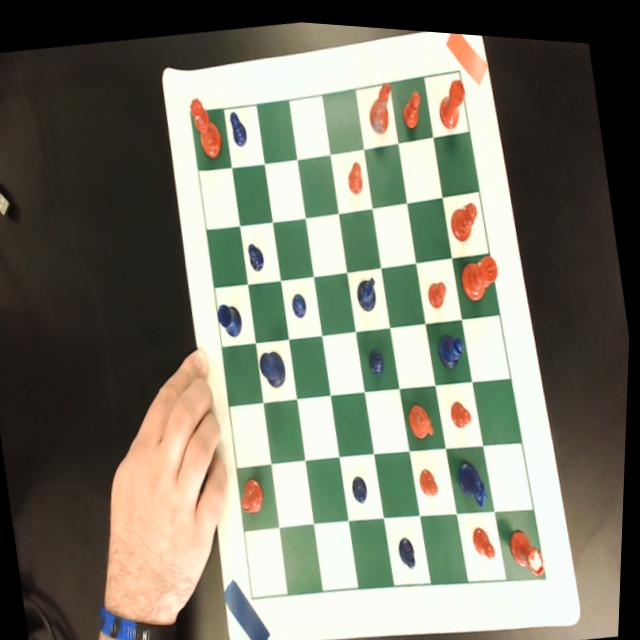B: (436, 323, 469, 365)
K: (259, 342, 290, 386)
N: (456, 447, 493, 504), (355, 268, 382, 307)
P: (225, 101, 249, 145), (397, 527, 421, 564), (245, 235, 267, 268), (351, 465, 372, 498), (367, 339, 388, 369), (290, 285, 310, 314)
R: (215, 294, 246, 335)
b: (446, 191, 484, 240), (238, 470, 269, 512)
k: (458, 244, 503, 297)
n: (361, 73, 399, 133), (406, 390, 440, 438)
p: (397, 81, 425, 125), (471, 514, 500, 553), (343, 153, 366, 190), (449, 390, 475, 422), (419, 458, 443, 492), (425, 271, 450, 303)
q: (186, 89, 226, 157)
r: (507, 513, 551, 574), (431, 67, 473, 125)
